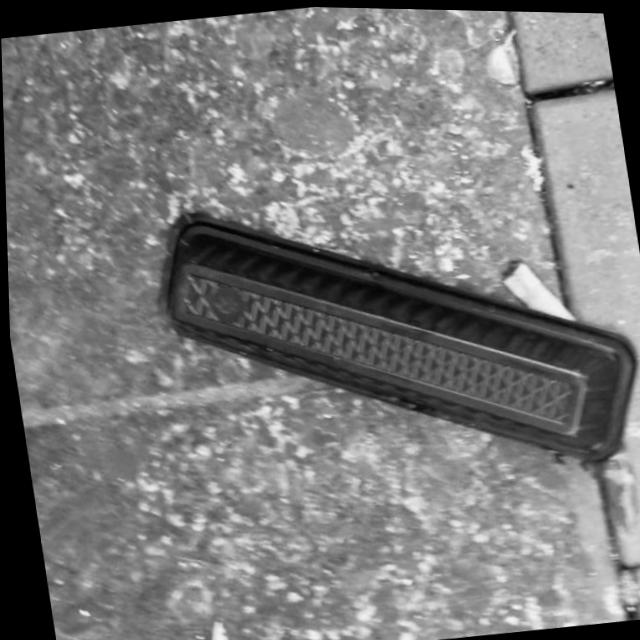Plastic: (135, 154, 640, 517)
